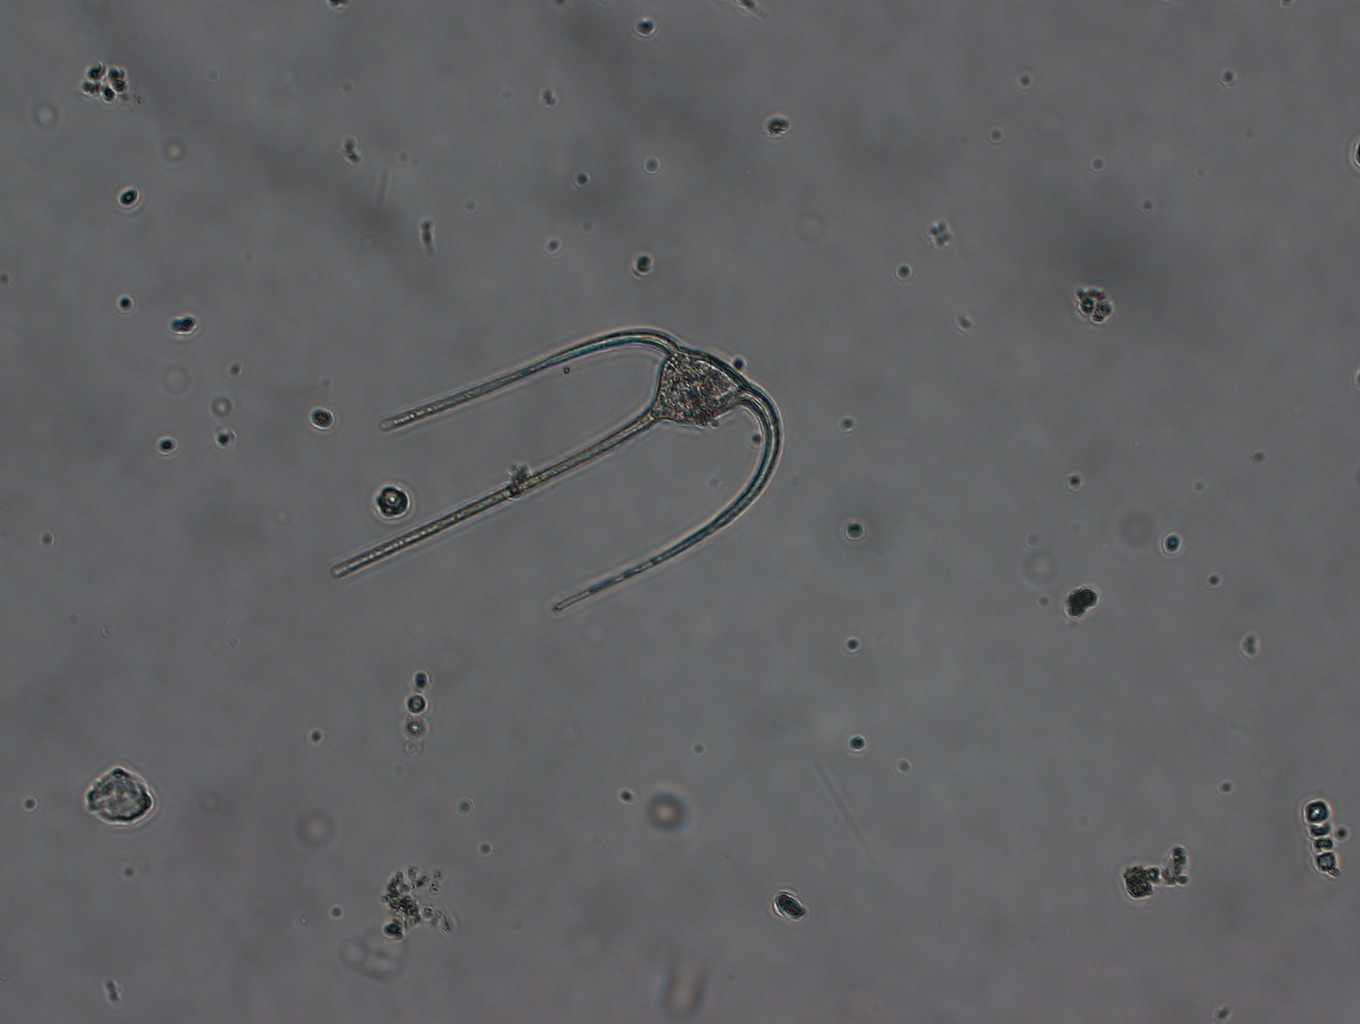ceratium trichoceros: (326, 322, 790, 616)
